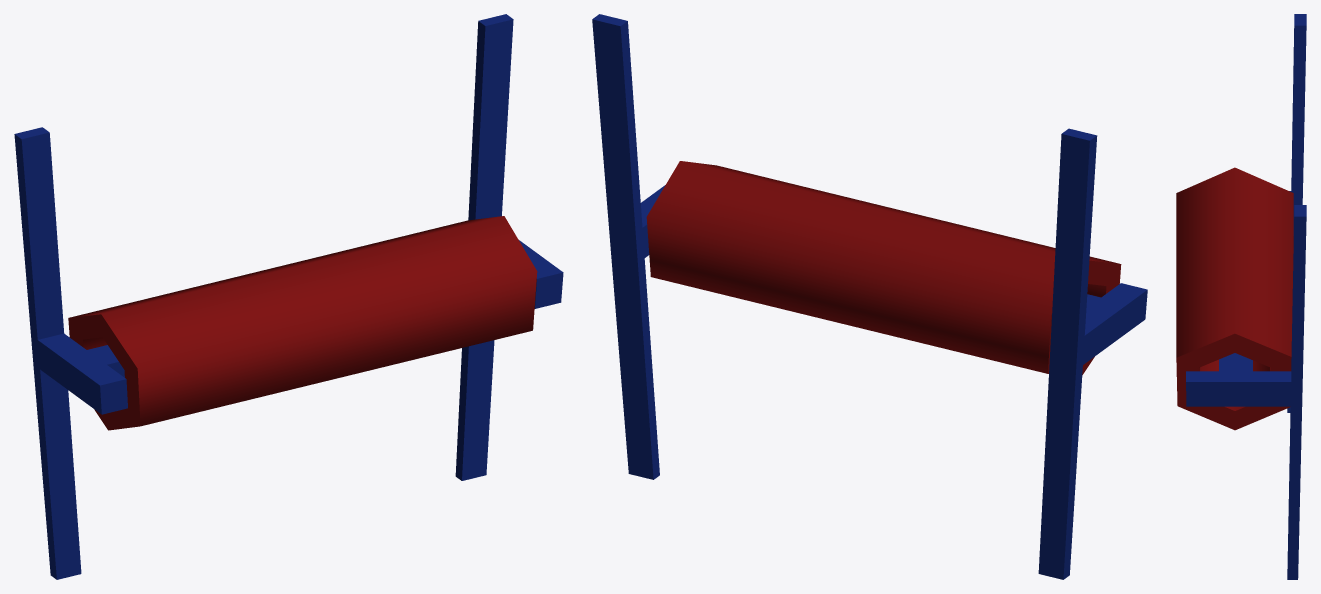
Rendered from SM_Shutter_Gate_Roll.fbx.
3 views of the same model, side by side, from view 1: azimuth 30°, elevation 25°; view 2: azimuth 150°, elevation 25°; view 3: azimuth 270°, elevation 25° (orthographic). The views are drawn at different scales.
Parts seen in each view (by area): view 1: SM_Shutter_Gate_Roll; view 2: SM_Shutter_Gate_Roll; view 3: SM_Shutter_Gate_Roll.
Boxes of the visible parts, x1,y1,x2,y2 form: SM_Shutter_Gate_Roll: (14,14,563,579); SM_Shutter_Gate_Roll: (592,14,1147,579); SM_Shutter_Gate_Roll: (1176,14,1306,579).
Size of the model in its own units: 12.5 by 10.81 by 3.39.
